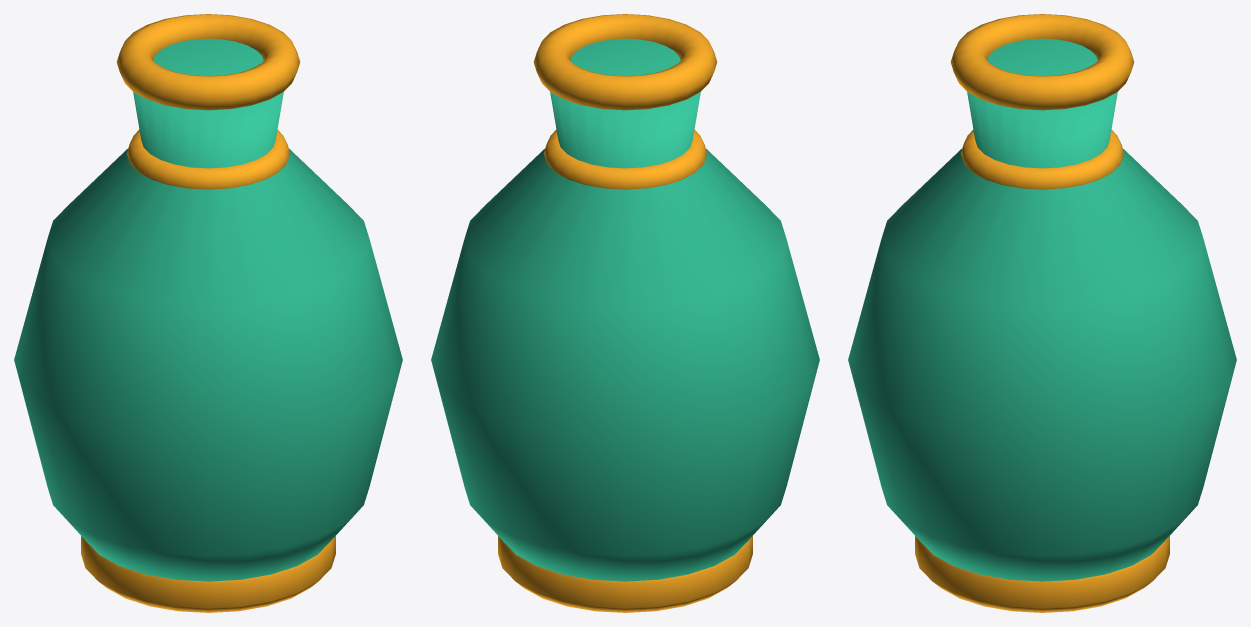
The model's file is jadevase.fbx.
3 renders of one model, left to right at view 1: azimuth 30°, elevation 25°; view 2: azimuth 150°, elevation 25°; view 3: azimuth 270°, elevation 25°, orthographic.
Visible parts, largest first — view 1: jadevase; view 2: jadevase; view 3: jadevase.
Part boxes in pixels (x1,y1,x2,y2): jadevase: [14, 14, 402, 612]; jadevase: [431, 14, 819, 612]; jadevase: [848, 14, 1236, 612].
Bounding box in the file's own units: 68.08 × 100 × 68.08.
1 material, 1 textured.
